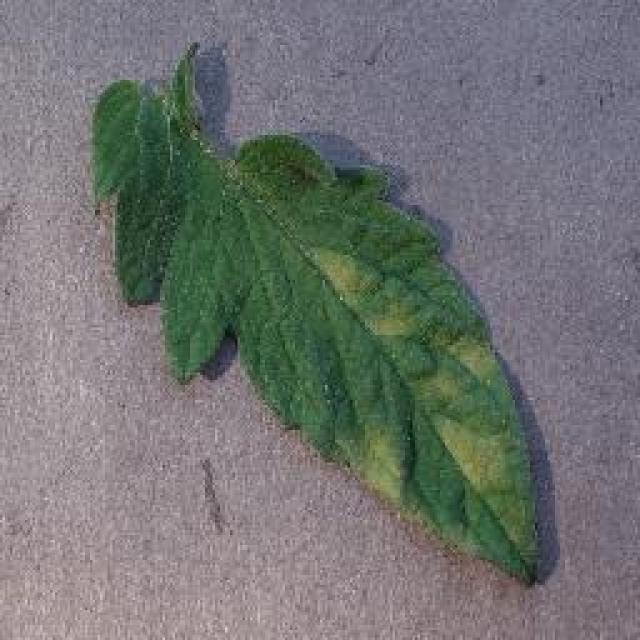Tomato___Leaf_Mold: (88, 33, 548, 590)
